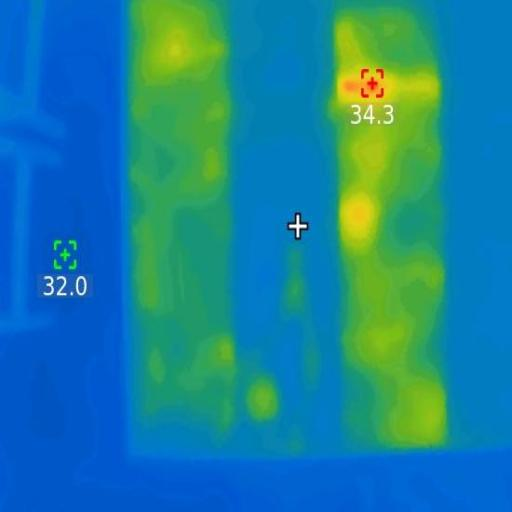hotspot: (339, 76, 388, 98)
